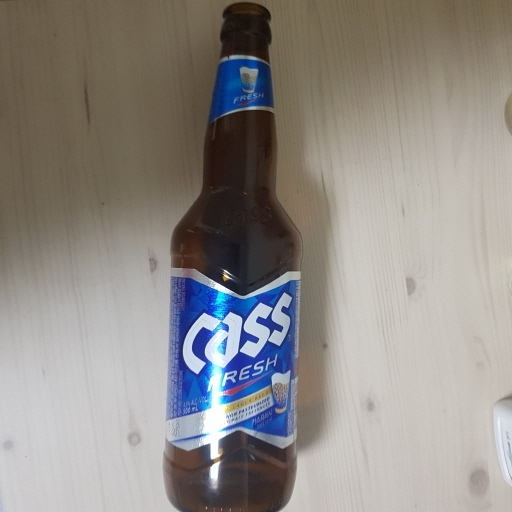Glass_1: (164, 2, 306, 512)
